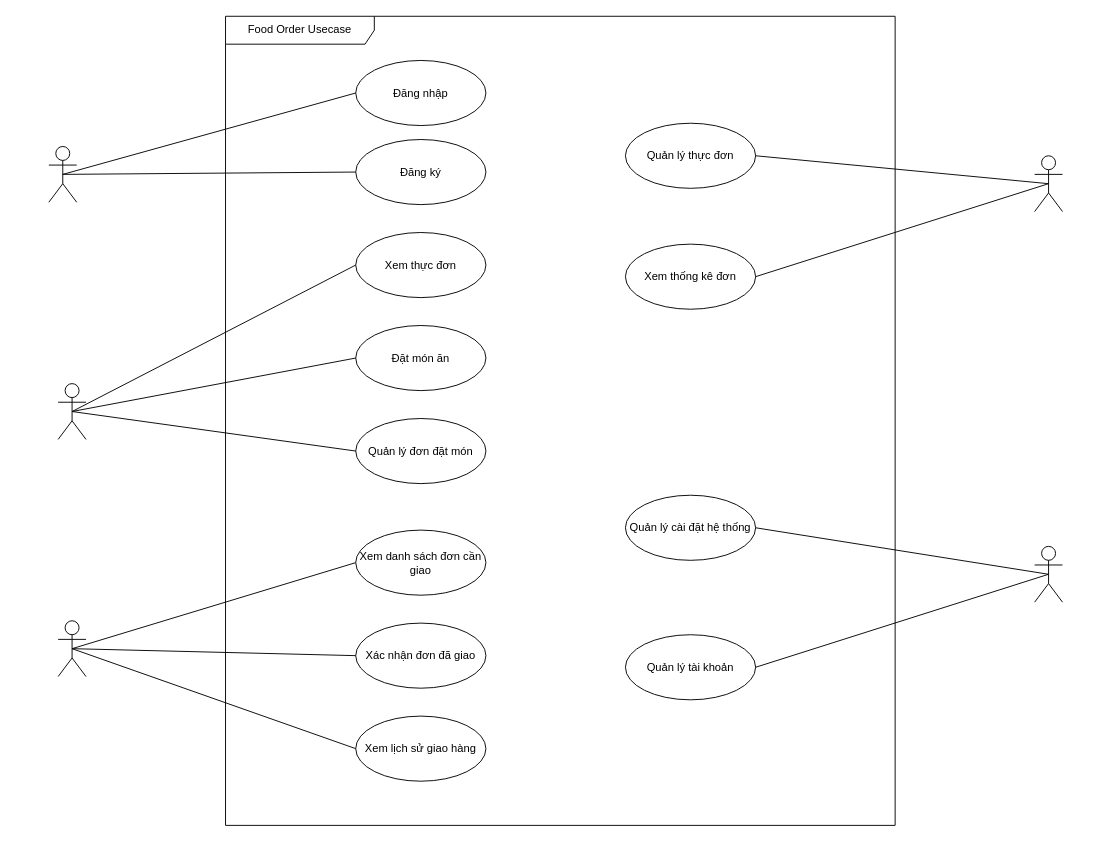
Some shapes in this 1100 by 842 pixel diagram are drawn without their labels. The centre of each missing label's shape, as x and y in pixels:
Admin: point 1048,573
Khách hàng: point 71,411
Người dùng chung: point 62,174
Người giao hàng: point 71,648
Nhân viên bếp: point 1048,183
